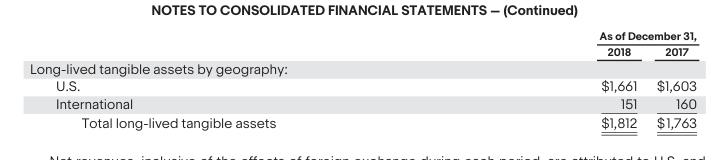table: (29, 29, 696, 129)
table column: (29, 29, 437, 129), (437, 29, 646, 129), (646, 29, 696, 129)
table column header: (29, 29, 696, 58)
table projected row header: (29, 58, 696, 76)
table row: (29, 58, 696, 76), (29, 76, 696, 94), (29, 94, 696, 112), (29, 112, 696, 129), (29, 43, 696, 58), (29, 29, 696, 43)
table spanning cell: (437, 29, 696, 43)
